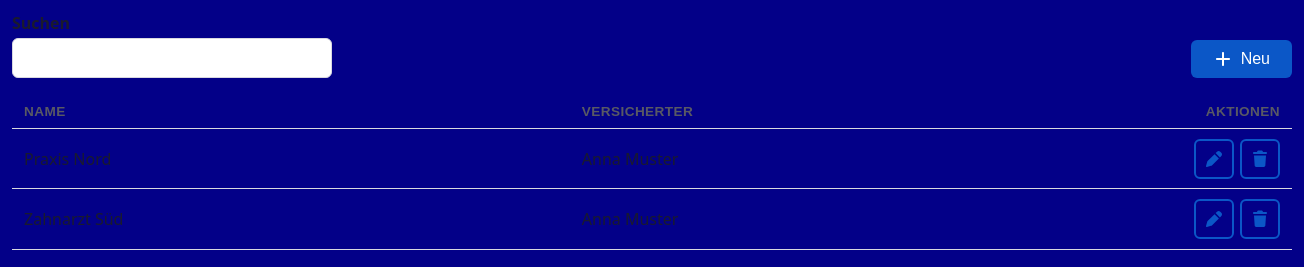
Test: ResourceView search › says that the search found nothing, not that the list is empty
The image size is (1304, 267).
Type "gibt es nicht" into the field labelled "Suchen" at (172, 58), box [12,38,332,78]
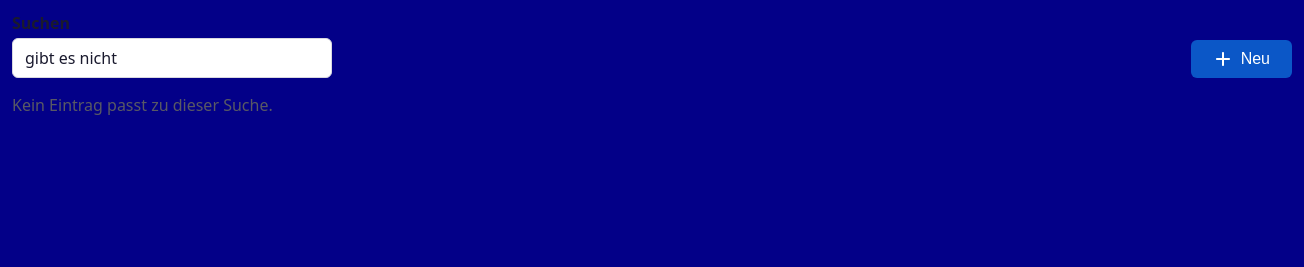
Expected: the text "Kein Eintrag passt zu dieser Suche." is shown, [12,94,273,116]
